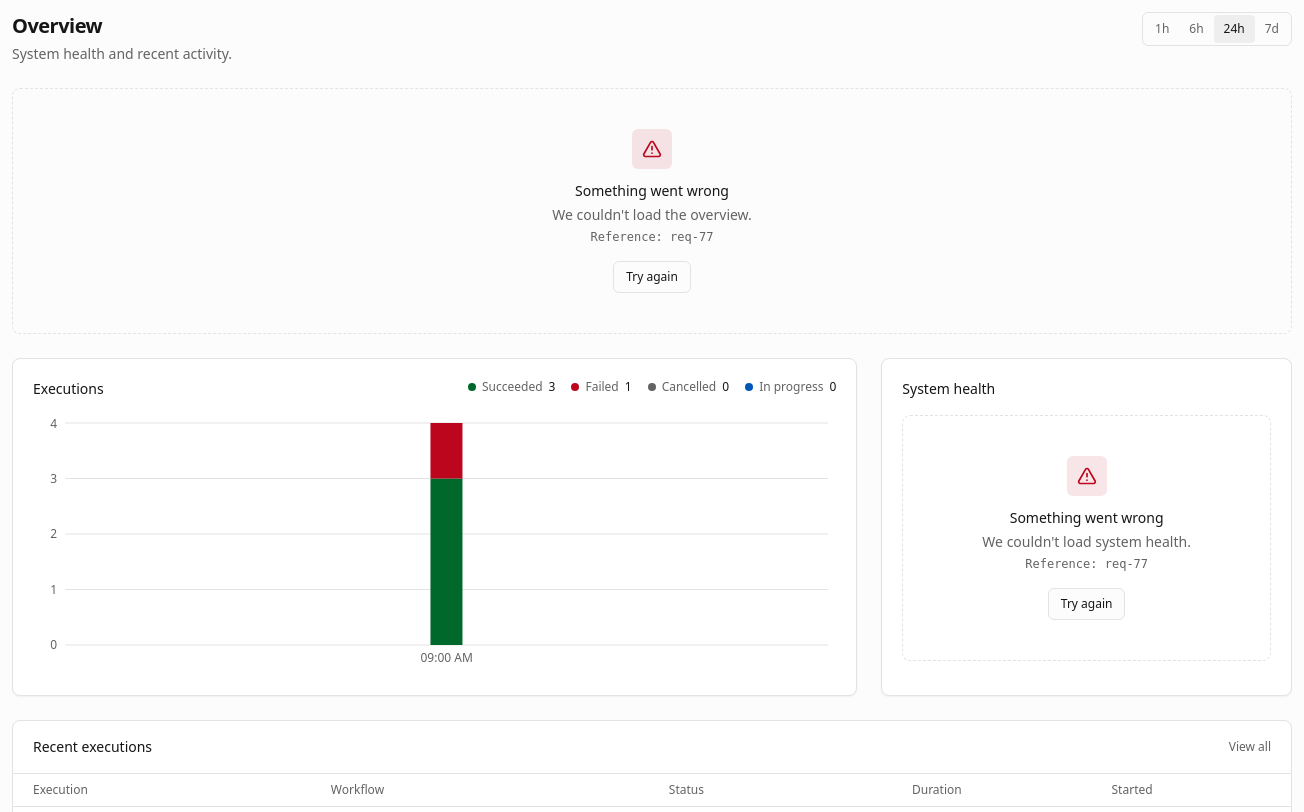
Test: OverviewPage › shows an error with a retry that recovers
Expected: the text "Reference: req-77" below "We couldn't load the overview." is shown, [591,229,713,245]
Step 1. Click the button "Try again" below "We couldn't load the overview." → (652, 277), box [613,261,691,293]
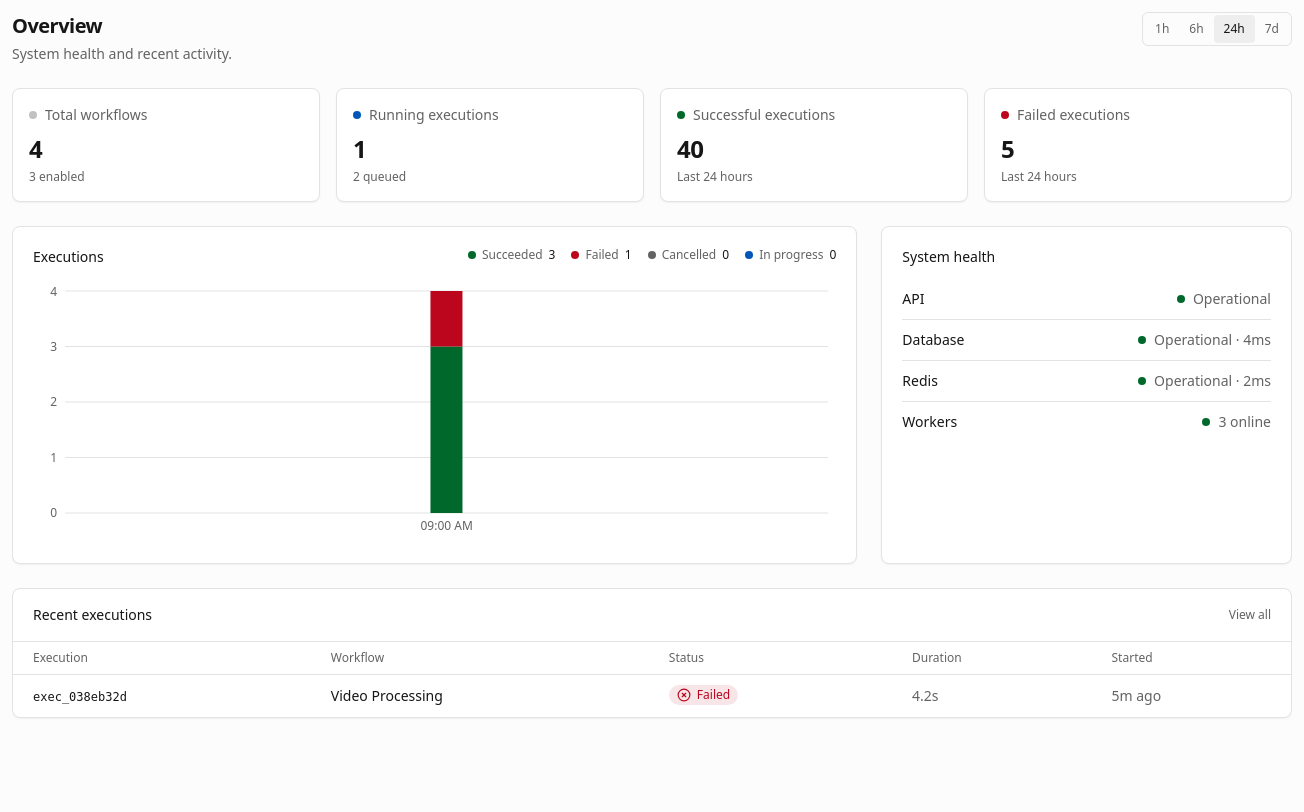
Now the element "Total workflows" is shown, box [12,88,320,202]
Now the button "Try again" is gone
